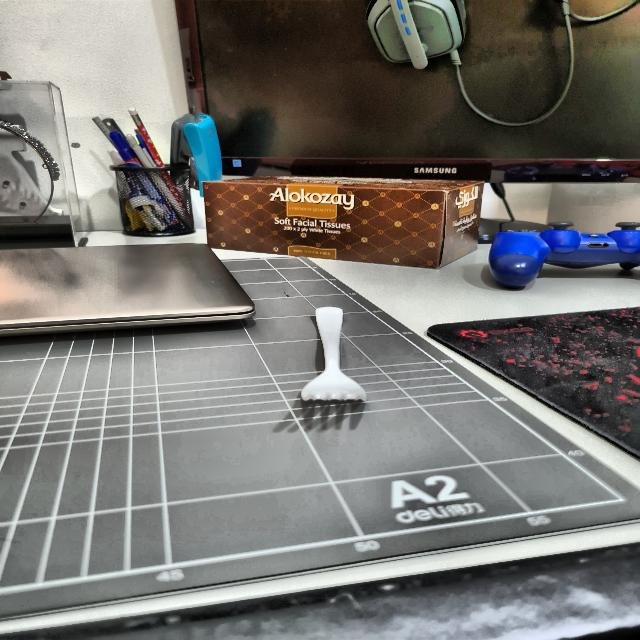plastic utensil: (297, 304, 371, 416)
